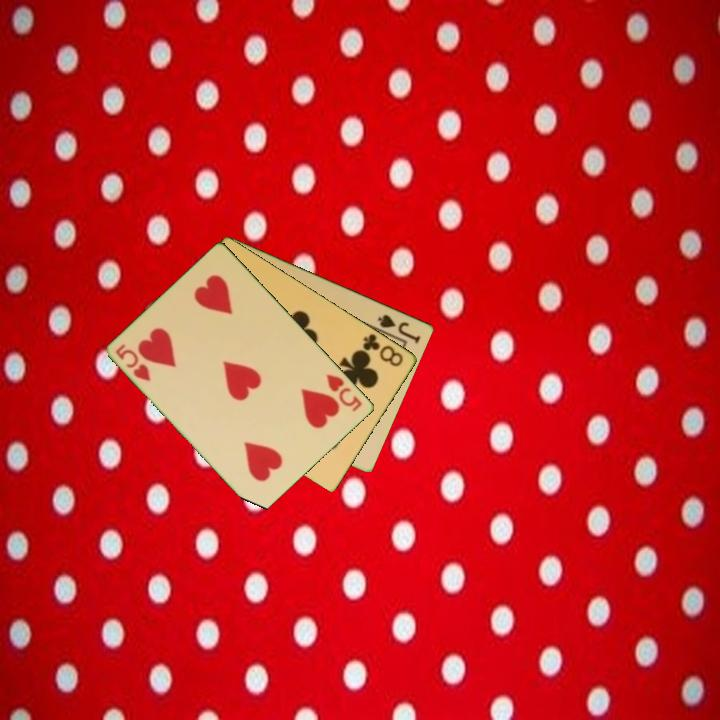5h: (323, 370, 365, 415), (112, 340, 154, 384)
8c: (359, 330, 407, 369)
Js: (374, 310, 424, 346)
